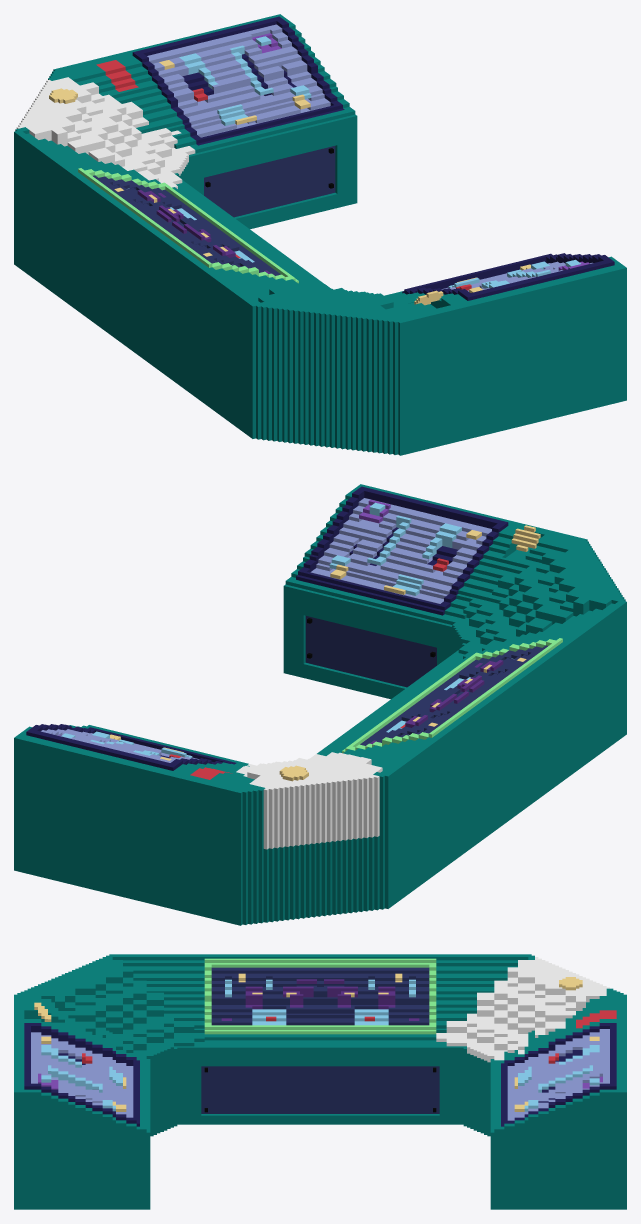
Rendered from consola.obj.
The picture shows the model from 3 angles, top to bottom: view 1: azimuth 30°, elevation 25°; view 2: azimuth 150°, elevation 25°; view 3: azimuth 270°, elevation 25°; orthographic projection. The views are drawn at different scales.
Size of the model in its own units: 9.6 by 4.1 by 18.
1 material, 1 textured.
